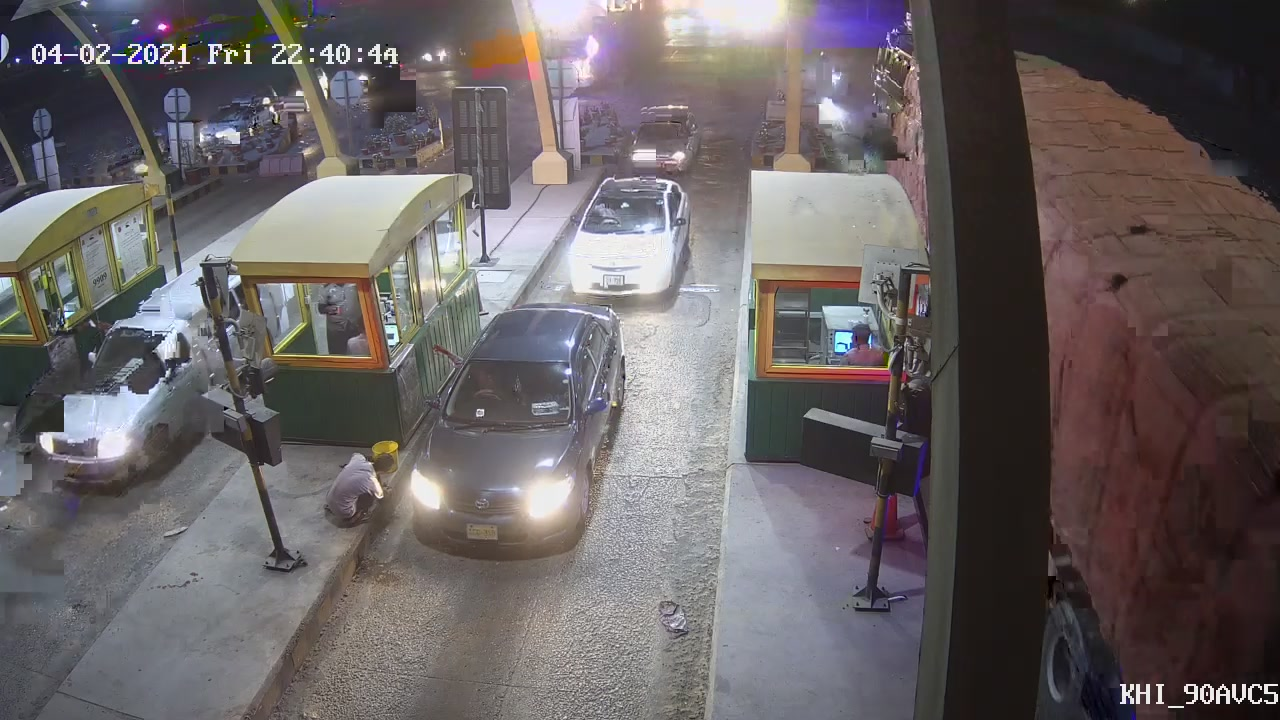F1: (408, 299, 631, 562), (564, 170, 698, 300)
